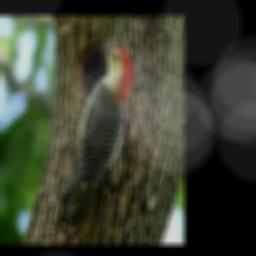Woodpecker: (52, 38, 132, 238)
